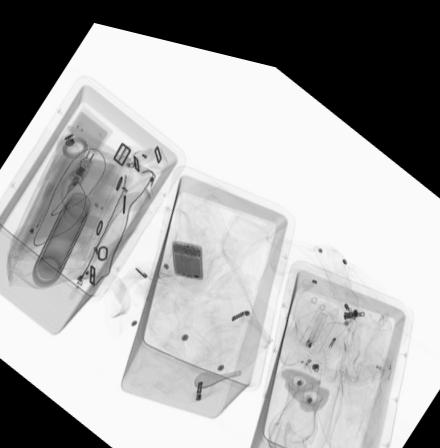Lighter: (303, 294, 328, 332)
